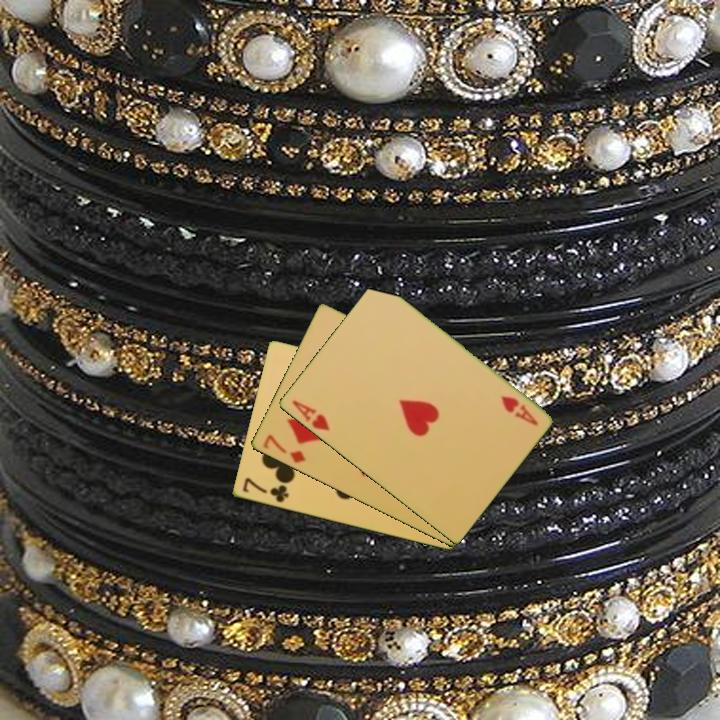7c: (239, 474, 291, 506)
7d: (259, 431, 308, 466)
Ah: (288, 396, 332, 434), (497, 392, 541, 429)
